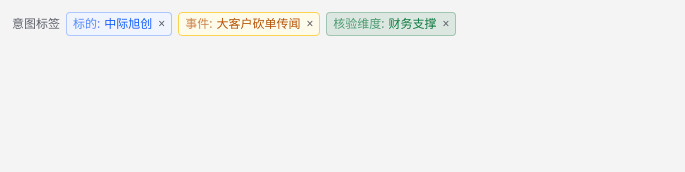
IntentTags › 取消编辑不重跑且恢复原值
Click the button "中际旭创" at (128, 24), box [104,15,152,33]
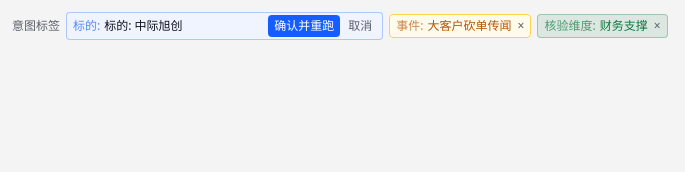
Replace the text in the field named "编辑标签 标的" with "改了" at (184, 26), box [104,17,264,35]
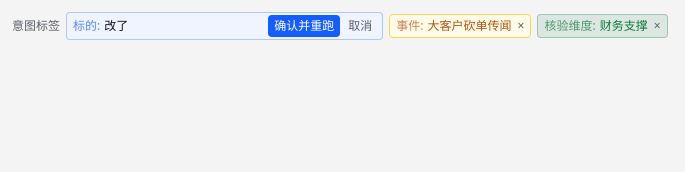
Click the button "取消" at (360, 26), box [344,17,376,35]
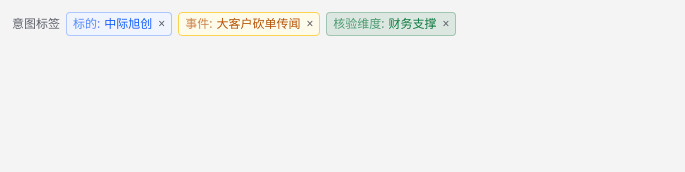
Expected: the button "中际旭创" is shown, [104,15,152,33]
